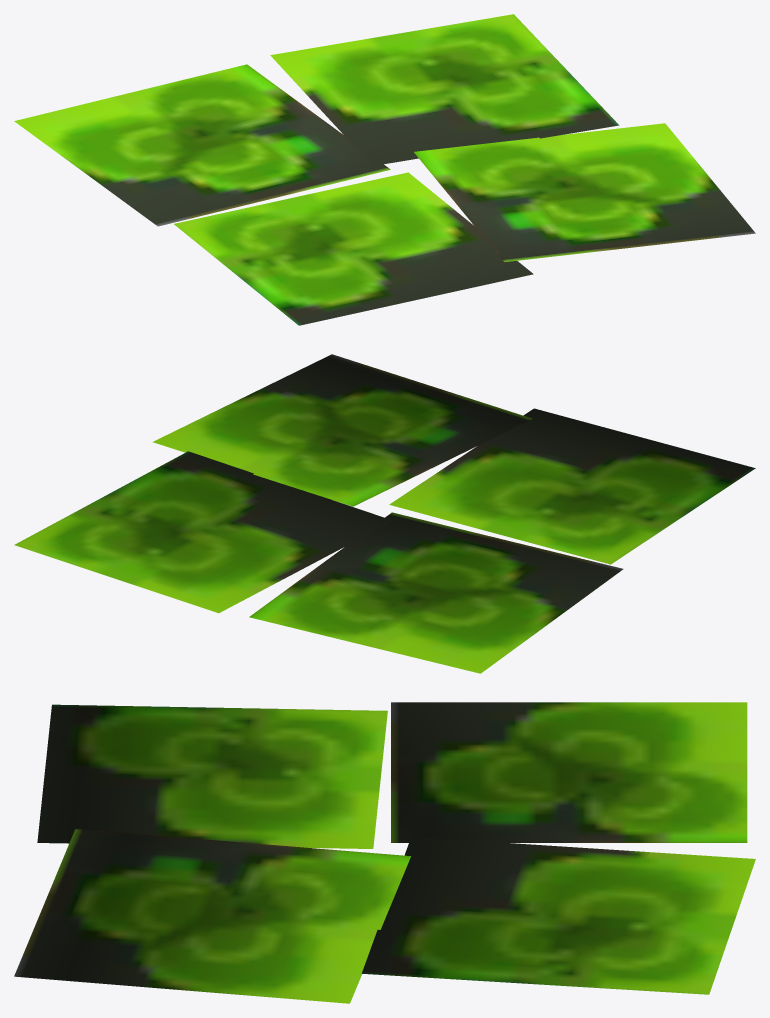
The model's file is fg_grassE.dae.
The picture shows the model from 3 angles, top to bottom: view 1: azimuth 30°, elevation 25°; view 2: azimuth 150°, elevation 25°; view 3: azimuth 270°, elevation 25°; orthographic projection. The views are drawn at different scales.
Parts seen in each view (by area): view 1: fg_grassE; view 2: fg_grassE; view 3: fg_grassE.
Part boxes in pixels (box(x1,y1,x2,y2)): fg_grassE: box(14, 14, 755, 325); fg_grassE: box(14, 354, 755, 673); fg_grassE: box(14, 702, 755, 1003).
Bounding box in the file's own units: 23.5 × 0.3916 × 24.87.
Materials: 1 (1 with a texture image).
